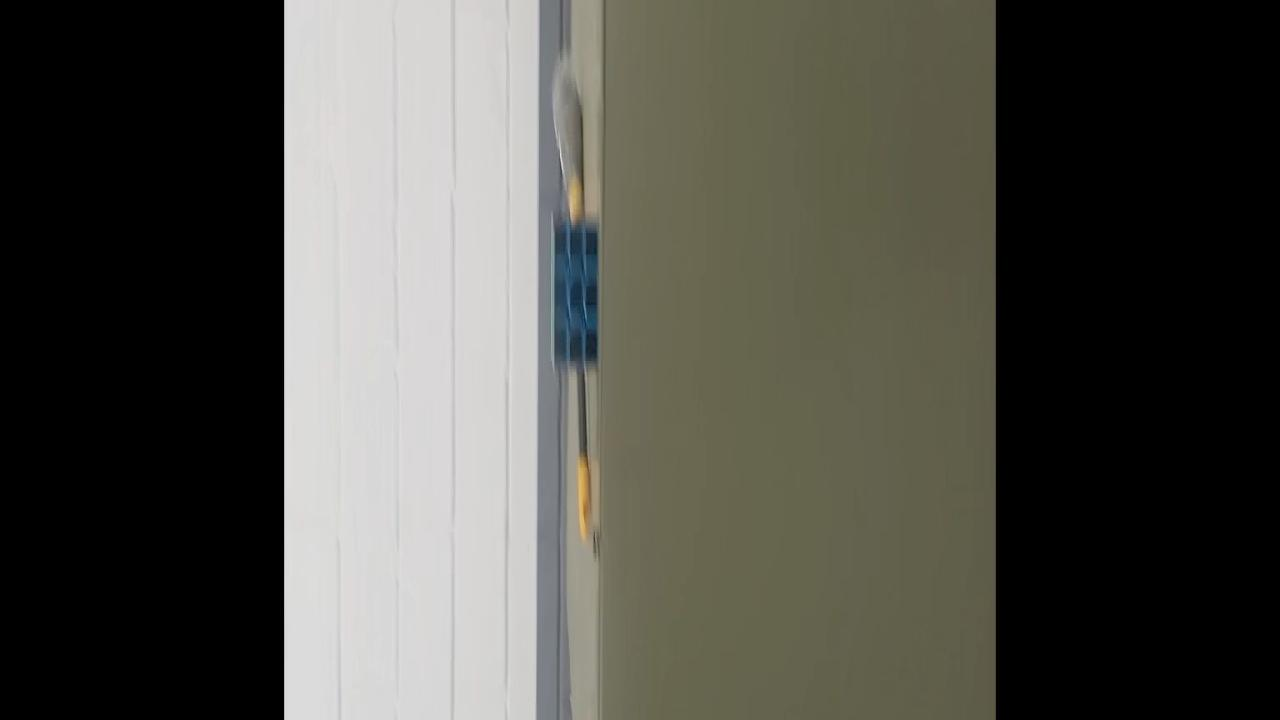Cube: (550, 214, 598, 376)
